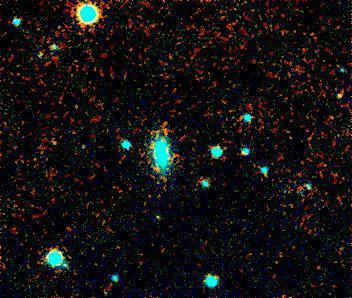star: (331, 78, 352, 108)
